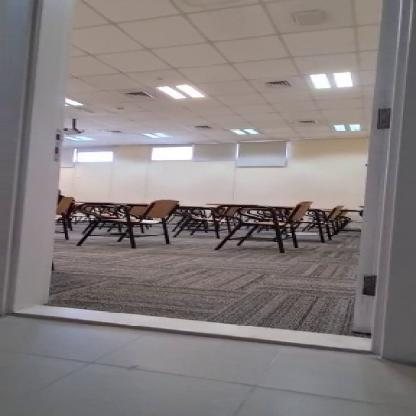open: (0, 0, 415, 367)
